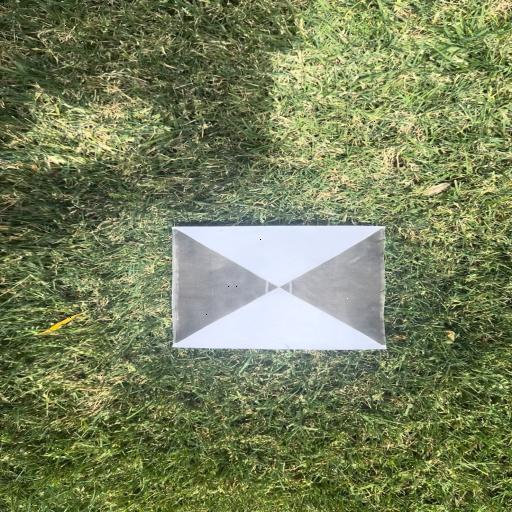target: (173, 227, 385, 349)
